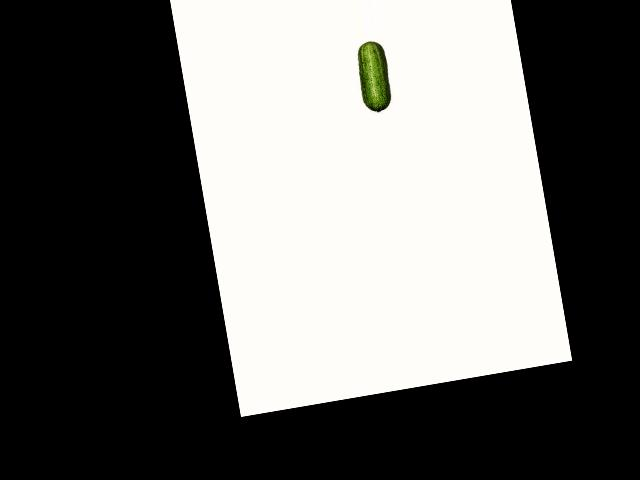cucumber: (354, 39, 394, 114)
